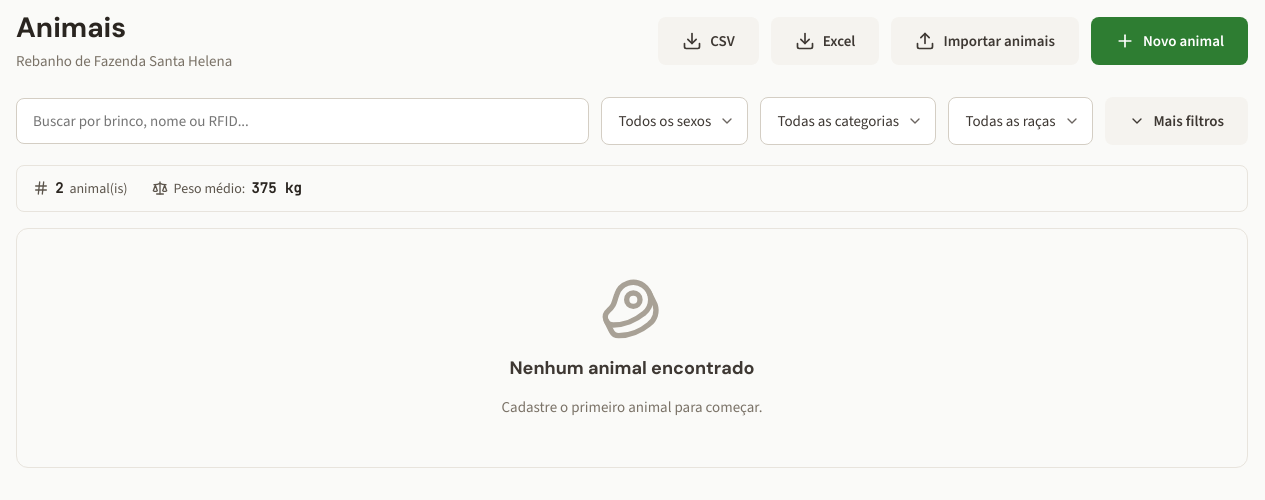
Test: AnimalsPage › should show empty state with filter message when filters active
The width and height of the screenshot is (1265, 500).
Select "Fêmea" in the 1st dropdown named "Filtrar por sexo" at (675, 121), box x1=601 y1=97 x2=748 y2=145
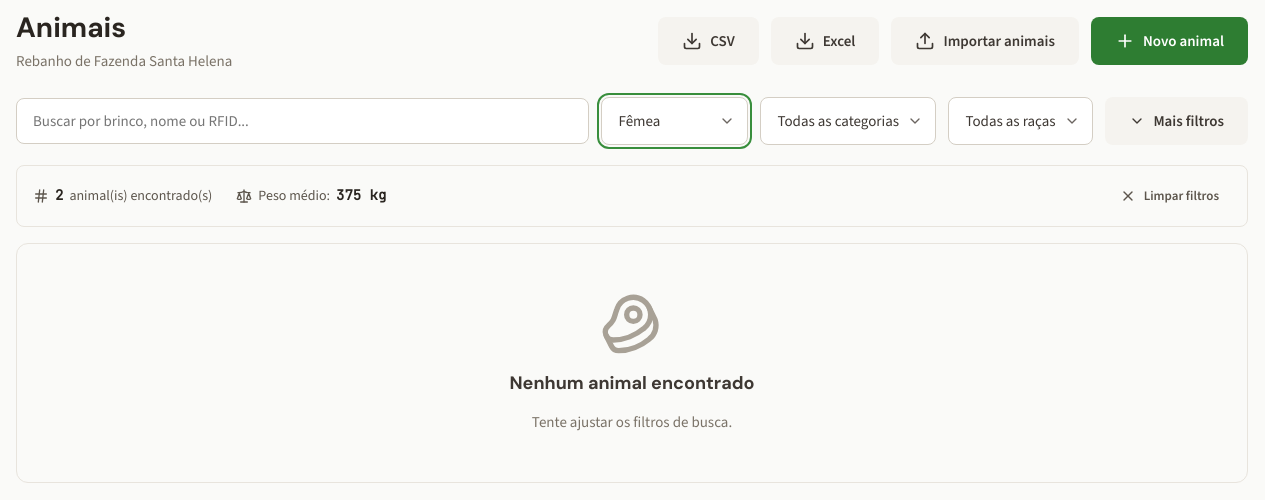
Result: the text "Tente ajustar os filtros de busca." is shown at x1=532 y1=411 x2=732 y2=434
